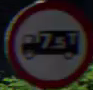Heavy Vehicles: (11, 9, 83, 78)
